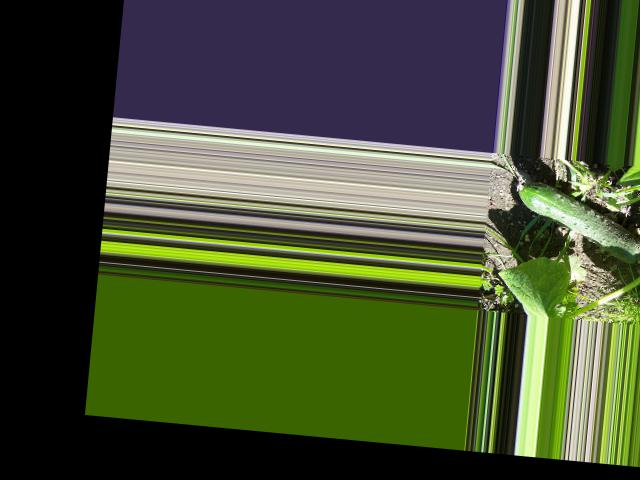cucumber: (511, 180, 640, 264)
